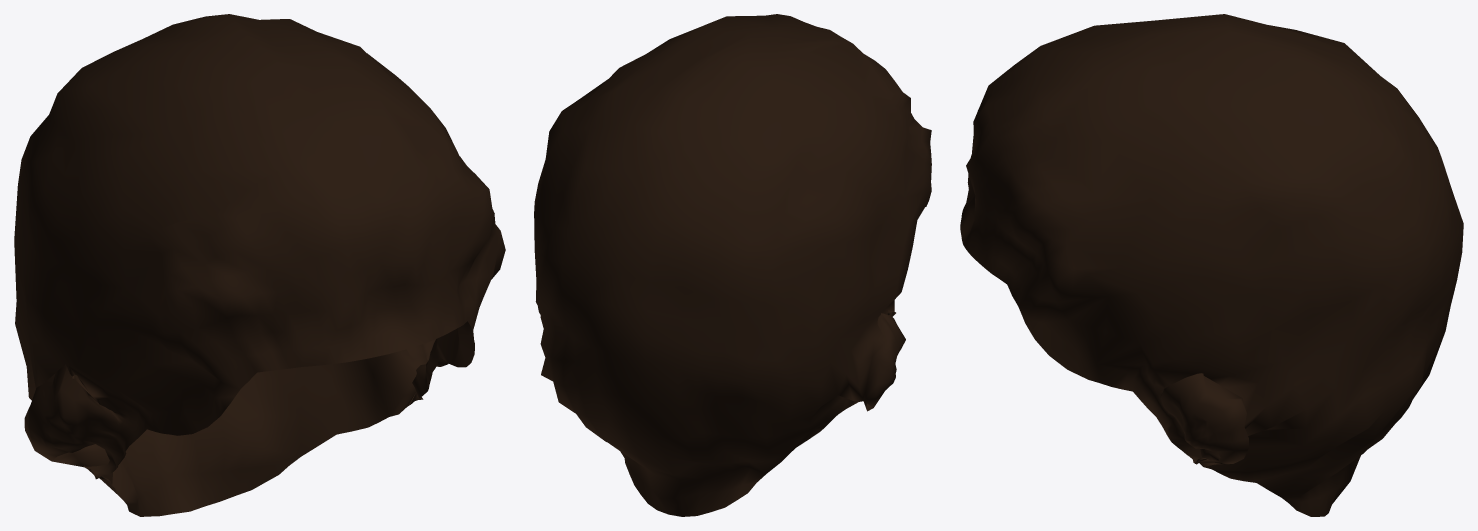
Rendered from hair_curly.glb.
3 views of the same model, side by side, from view 1: azimuth 30°, elevation 25°; view 2: azimuth 150°, elevation 25°; view 3: azimuth 270°, elevation 25° (orthographic). The views are drawn at different scales.
Visible parts, largest first — view 1: hair_curly; view 2: hair_curly; view 3: hair_curly.
Boxes of the visible parts, x1,y1,x2,y2 form: hair_curly: (14, 14, 505, 516); hair_curly: (534, 14, 931, 516); hair_curly: (960, 14, 1463, 516).
Size of the model in its own units: 0.2126 by 0.2464 by 0.2359.
